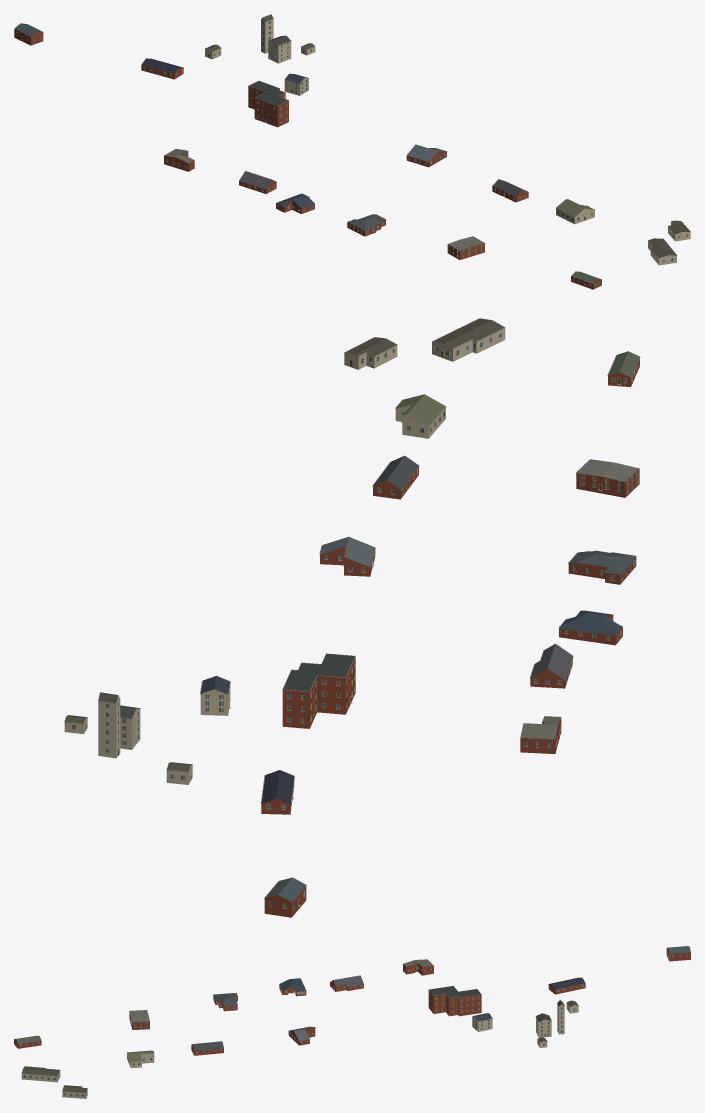
3 views of the same model, one above another, from view 1: azimuth 30°, elevation 25°; view 2: azimuth 150°, elevation 25°; view 3: azimuth 270°, elevation 25° (orthographic). The views are drawn at different scales.
Visible parts, largest first — view 1: -1_11_608377690_1, -1_11_608378764_4; view 2: -1_11_608377690_1, -1_11_608378764_4; view 3: -1_11_608377690_1, -1_11_608378764_4.
Part boxes in pixels (box(x1,y1,x2,y2)): -1_11_608377690_1: box(14, 14, 690, 289); -1_11_608378764_4: box(205, 17, 690, 265); -1_11_608377690_1: box(64, 318, 640, 917); -1_11_608378764_4: box(64, 327, 505, 784); -1_11_608377690_1: box(14, 946, 690, 1096); -1_11_608378764_4: box(21, 1003, 578, 1098).
Size of the model in its own units: 230 by 33.19 by 488.
